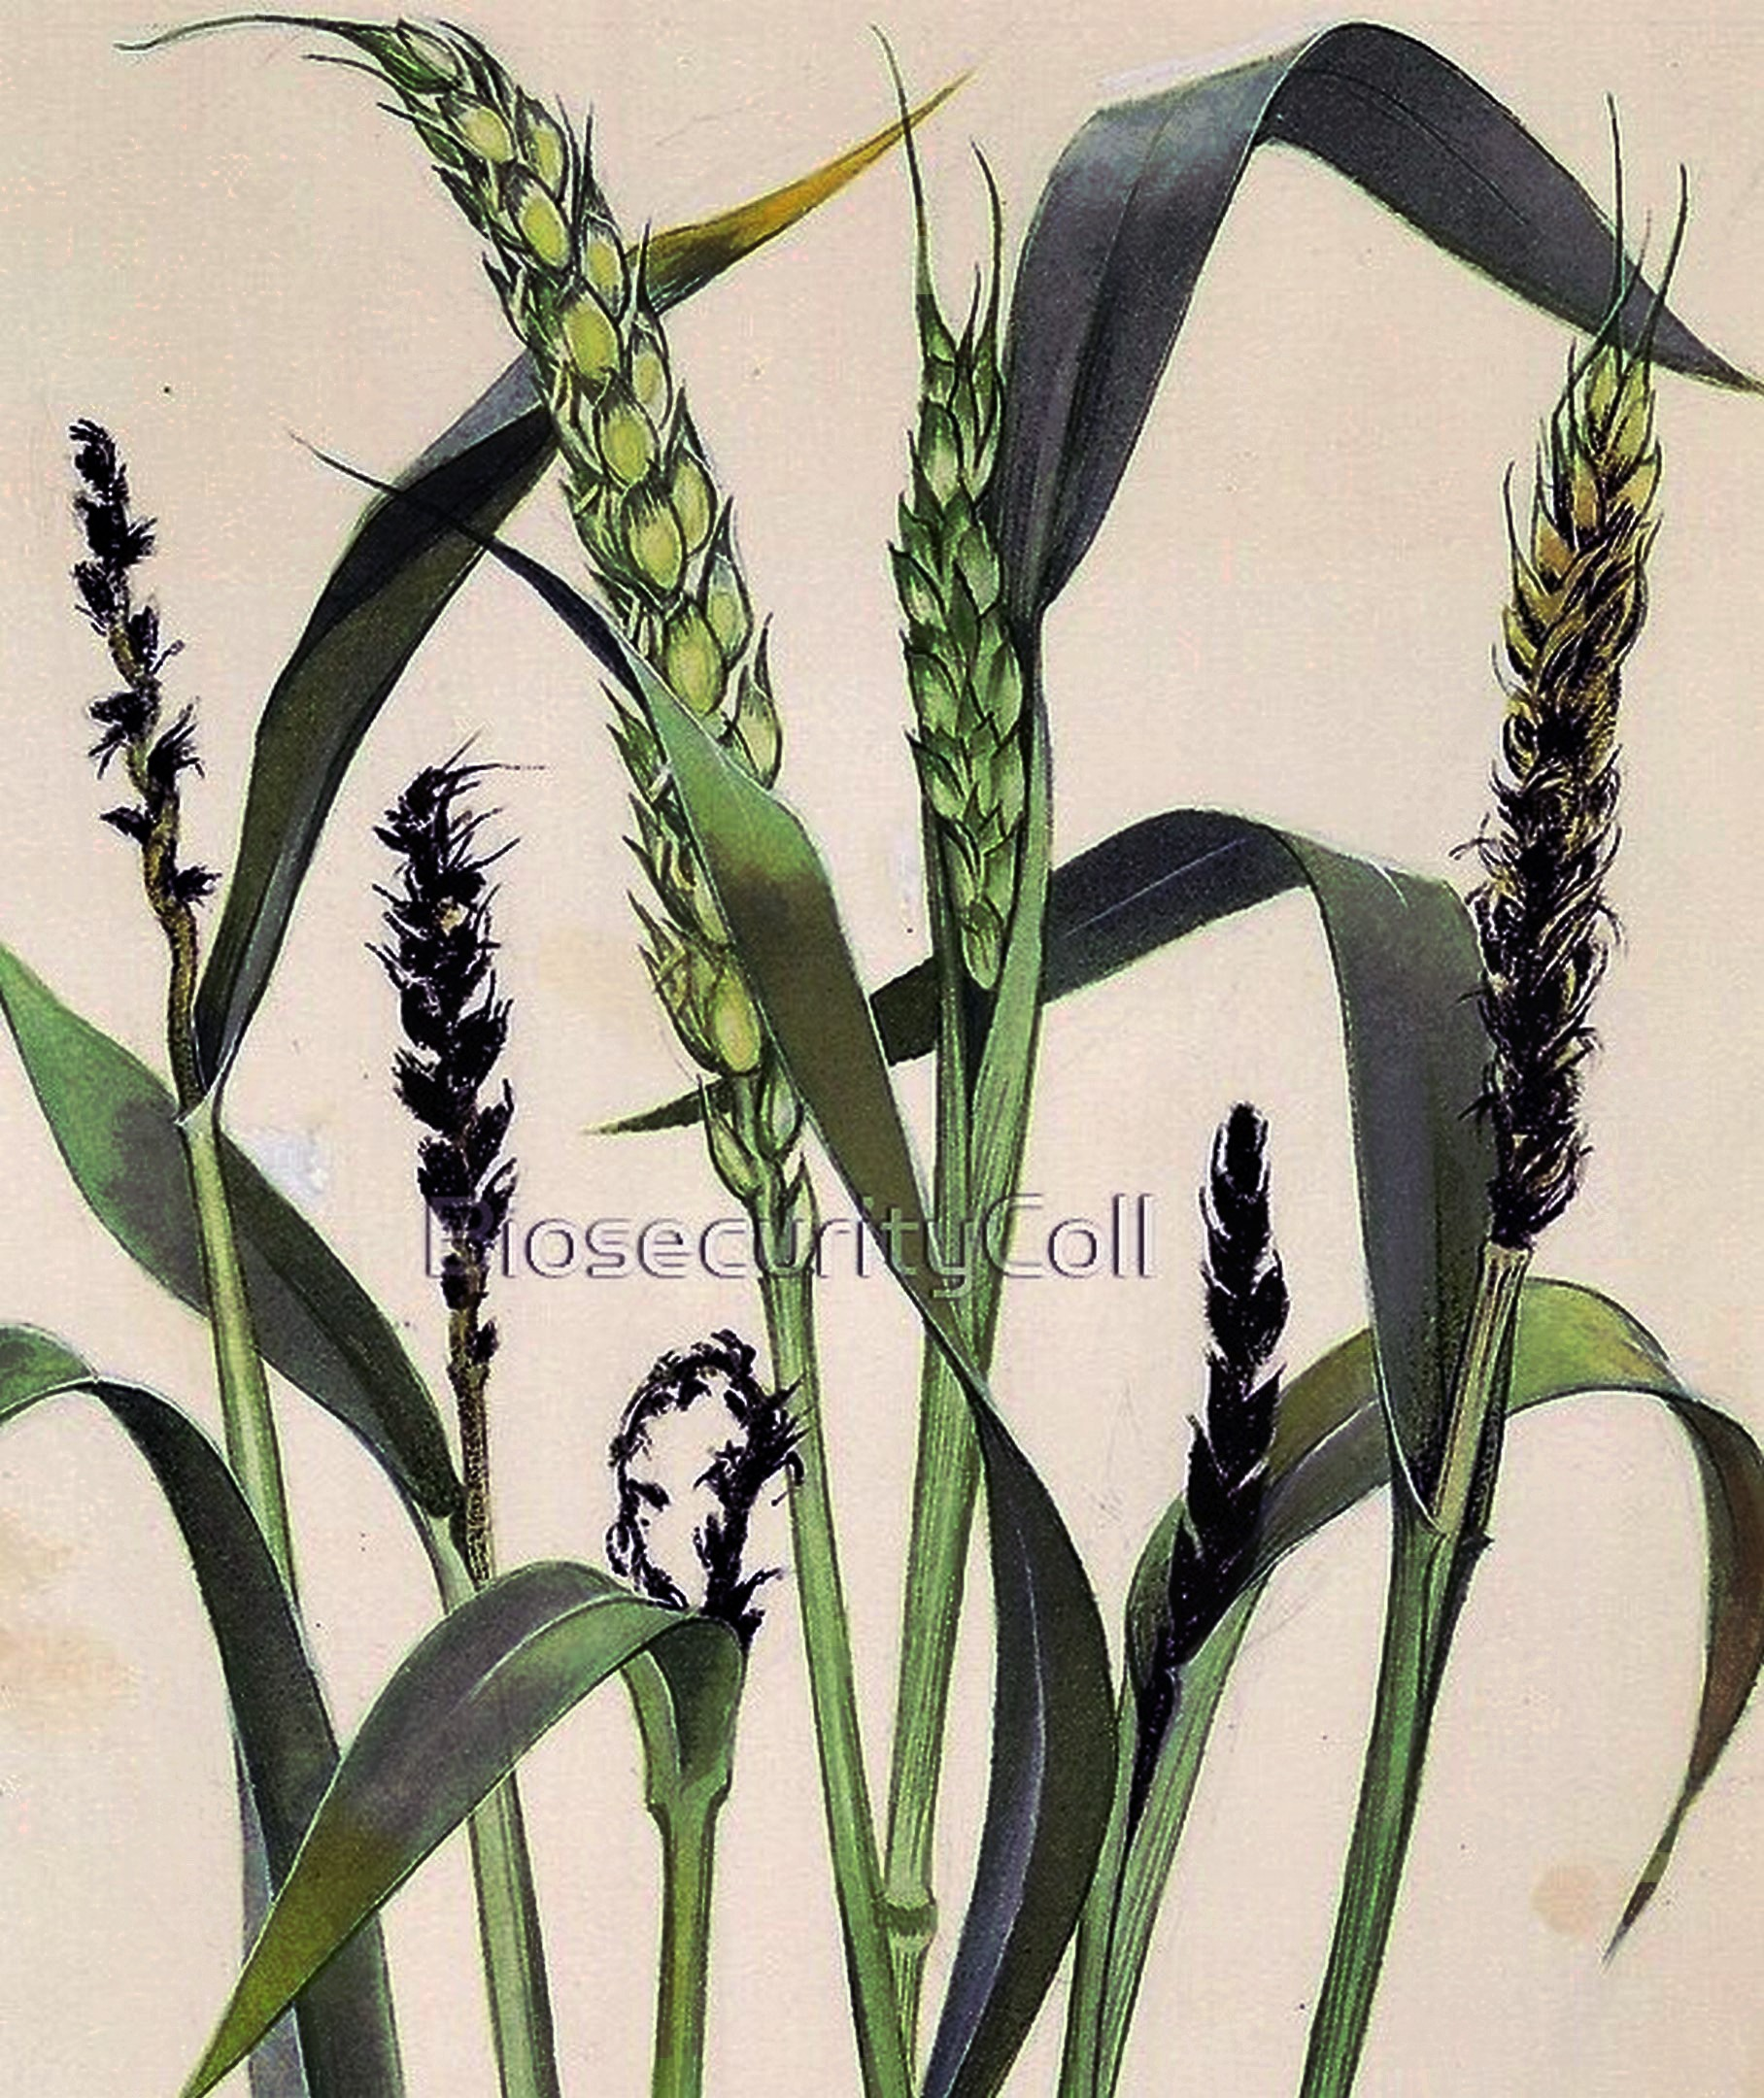Wheat Loose Smut: (359, 744, 558, 1248)
